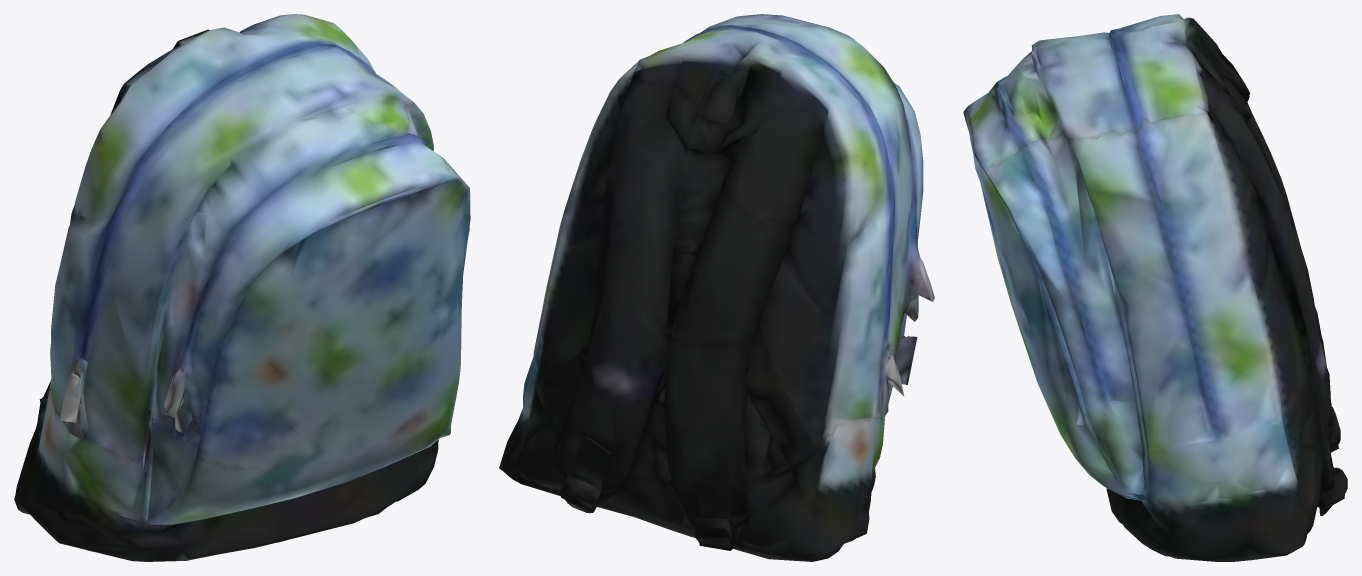
The model's file is Olive_Kids_Dinosaur_Land_Sidekick_Backpack-medium.glb.
The picture shows the model from 3 angles, left to right: view 1: azimuth 30°, elevation 25°; view 2: azimuth 150°, elevation 25°; view 3: azimuth 270°, elevation 25°; orthographic projection. The views are drawn at different scales.
Visible parts, largest first — view 1: Olive_Kids_Dinosaur_Land_Sidekick_Backpack; view 2: Olive_Kids_Dinosaur_Land_Sidekick_Backpack; view 3: Olive_Kids_Dinosaur_Land_Sidekick_Backpack.
Part boxes in pixels (x1,y1,x2,y2): Olive_Kids_Dinosaur_Land_Sidekick_Backpack: (14, 14, 470, 561); Olive_Kids_Dinosaur_Land_Sidekick_Backpack: (499, 14, 934, 561); Olive_Kids_Dinosaur_Land_Sidekick_Backpack: (963, 14, 1347, 561).
Bounding box in the file's own units: 0.3099 × 0.3801 × 0.2921.
1 material, 1 textured.
